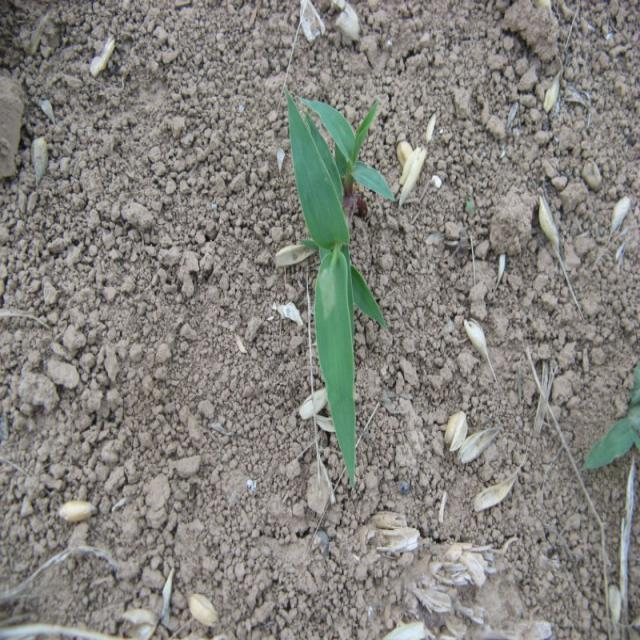bg: (285, 95, 399, 485)
